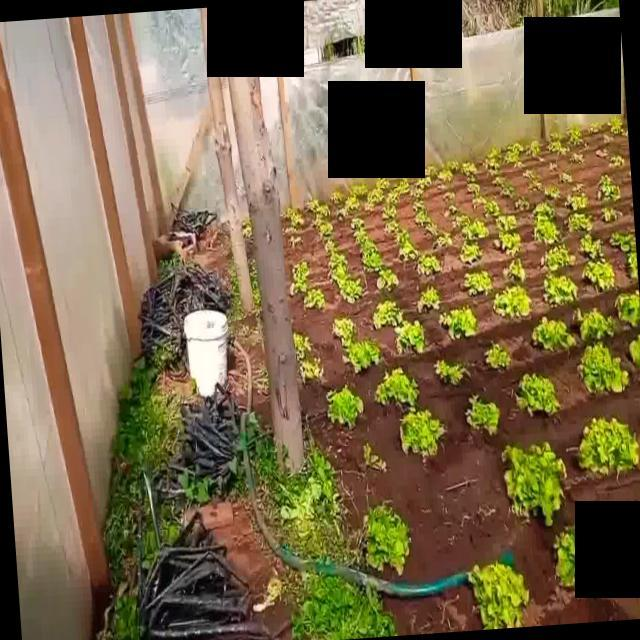Lettuce: (504, 443, 566, 525), (466, 561, 532, 627), (363, 502, 413, 574), (576, 418, 638, 476), (580, 342, 626, 396), (399, 411, 447, 455), (516, 372, 560, 416), (374, 366, 419, 406), (325, 387, 364, 426), (532, 316, 574, 352), (554, 526, 576, 590), (466, 396, 500, 436), (493, 284, 532, 318), (440, 307, 480, 340), (574, 307, 614, 339), (345, 340, 381, 374), (542, 273, 578, 306), (393, 320, 427, 354), (582, 261, 616, 291), (433, 358, 470, 385), (616, 288, 640, 328), (542, 244, 576, 272), (373, 300, 402, 329), (533, 218, 562, 246), (493, 230, 524, 256), (485, 343, 512, 371), (464, 270, 493, 296), (578, 233, 604, 261), (299, 357, 324, 384), (504, 256, 526, 284), (565, 212, 593, 234), (338, 278, 363, 302), (418, 287, 440, 314), (610, 230, 637, 252), (418, 254, 442, 278), (376, 268, 399, 292), (293, 330, 312, 358), (333, 318, 357, 340), (459, 242, 482, 264), (464, 221, 489, 241), (304, 288, 326, 309), (598, 182, 622, 201), (482, 147, 500, 172), (290, 272, 310, 294), (399, 241, 419, 263), (362, 249, 381, 271), (564, 194, 590, 210), (330, 266, 349, 287), (533, 200, 554, 218), (433, 232, 454, 250), (451, 214, 472, 232), (601, 207, 623, 224), (496, 214, 518, 231), (628, 249, 640, 280), (564, 127, 584, 145), (291, 259, 312, 276), (392, 178, 412, 195), (514, 196, 532, 214), (351, 182, 369, 200), (484, 200, 503, 217), (384, 219, 400, 239), (343, 196, 363, 212), (544, 139, 566, 153), (329, 253, 347, 270), (558, 170, 575, 188), (413, 175, 432, 191), (542, 186, 563, 200), (462, 160, 478, 178), (370, 187, 386, 205), (610, 116, 623, 138), (318, 222, 335, 238), (380, 205, 398, 220), (503, 149, 522, 163), (361, 238, 378, 253), (499, 184, 514, 201), (289, 210, 304, 227), (316, 204, 331, 221), (329, 193, 346, 208), (437, 170, 455, 184), (443, 204, 458, 220), (472, 194, 487, 210), (529, 141, 544, 157), (521, 166, 536, 182), (568, 152, 587, 164), (353, 227, 368, 242), (414, 210, 429, 225), (395, 232, 411, 246), (588, 118, 602, 134), (378, 176, 392, 192), (412, 199, 426, 214), (306, 197, 320, 212), (386, 191, 400, 206), (424, 223, 440, 236), (526, 180, 542, 193), (609, 156, 626, 168), (466, 182, 481, 195), (594, 146, 610, 158), (492, 175, 508, 187), (443, 192, 459, 204), (324, 240, 337, 254), (350, 217, 364, 230), (447, 160, 461, 173), (426, 165, 438, 180), (412, 188, 425, 201), (547, 159, 559, 172)
